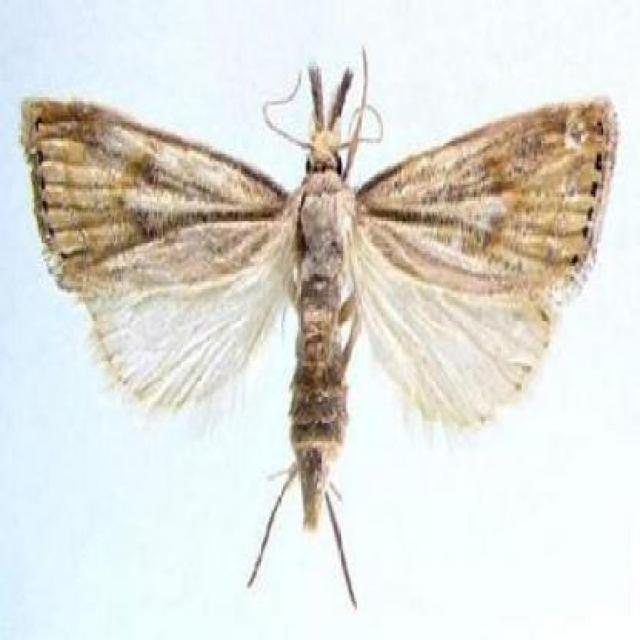stem-borer: (17, 40, 618, 614)
